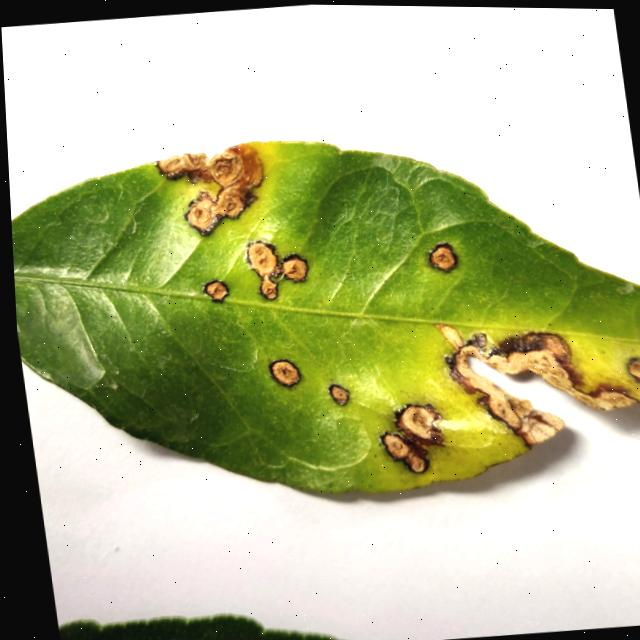antracnose: (11, 141, 640, 492), (435, 324, 636, 445), (381, 404, 443, 473), (208, 146, 262, 216), (246, 241, 307, 299), (157, 152, 211, 182), (186, 191, 218, 234), (429, 243, 457, 271), (270, 360, 300, 386), (328, 383, 349, 405), (205, 280, 228, 300), (628, 358, 640, 380)
